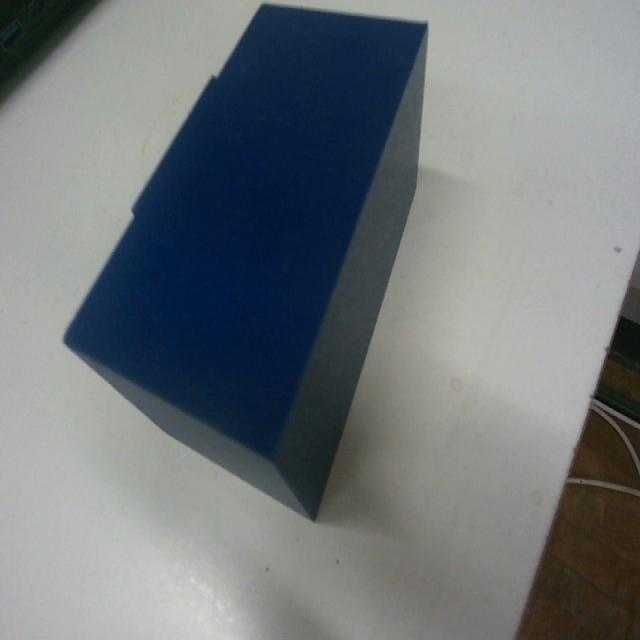Blue Cuboid: (62, 1, 430, 522)
